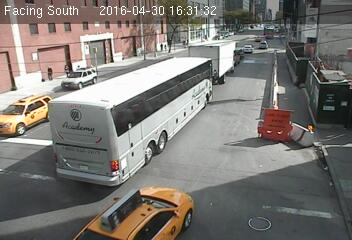neg: (98, 127, 129, 168), (158, 173, 189, 214), (267, 167, 294, 202), (180, 92, 205, 125), (56, 180, 80, 212), (117, 67, 141, 99), (225, 8, 244, 34), (252, 30, 271, 55)
pos: (60, 61, 73, 78), (156, 37, 167, 52), (162, 43, 169, 51), (181, 39, 187, 47), (184, 36, 190, 44)
